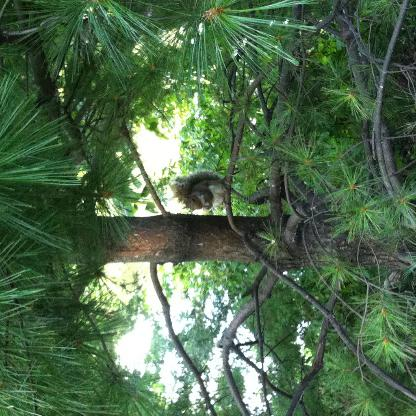Squirrel: (174, 171, 250, 211)
